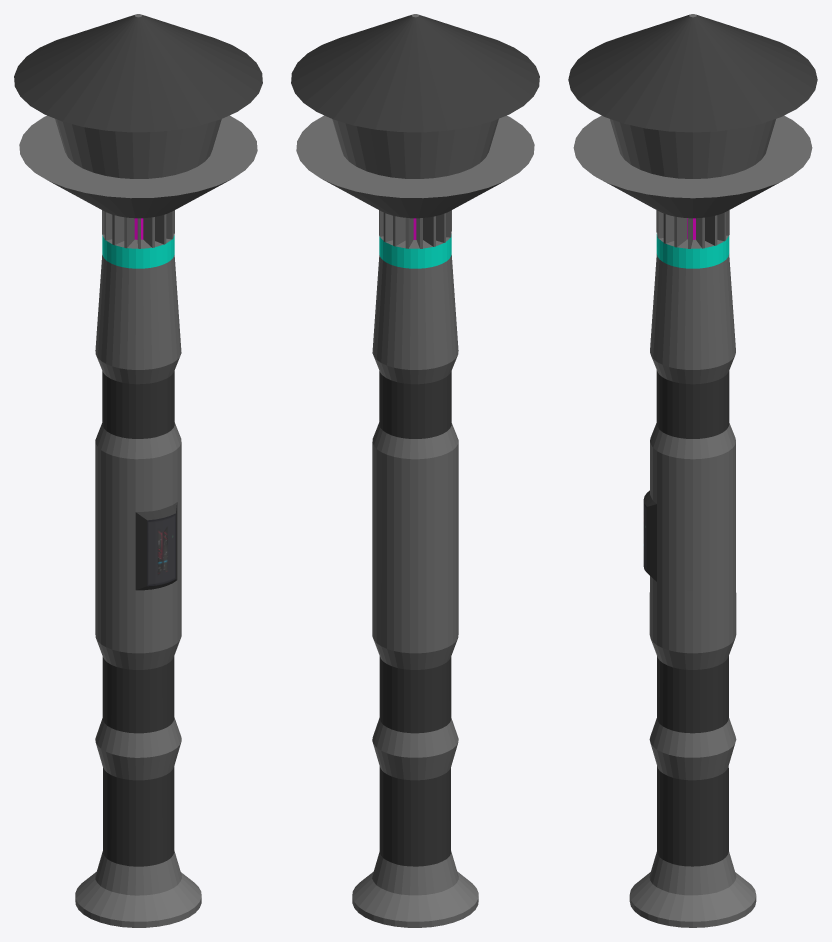
File: Laterne.fbx
3 renders of one model, left to right at view 1: azimuth 30°, elevation 25°; view 2: azimuth 150°, elevation 25°; view 3: azimuth 270°, elevation 25°, orthographic.
Visible parts, largest first — view 1: Straßenlaterne, Glas, Sicherungskasten; view 2: Straßenlaterne, Glas; view 3: Straßenlaterne, Glas.
Boxes of the visible parts, x1,y1,x2,y2 form: Straßenlaterne: (14,14,262,927); Glas: (55,118,221,178); Sicherungskasten: (147,513,175,586); Straßenlaterne: (291,14,539,927); Glas: (332,118,498,178); Straßenlaterne: (568,14,817,927); Glas: (610,119,775,178).
Bounding box in the file's own units: 116 × 454 × 116.
